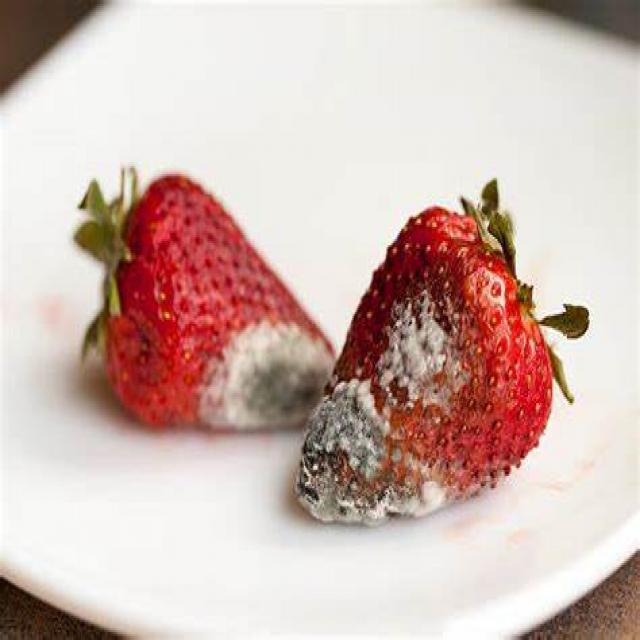Moho gris: (289, 213, 557, 525), (83, 160, 341, 452)
